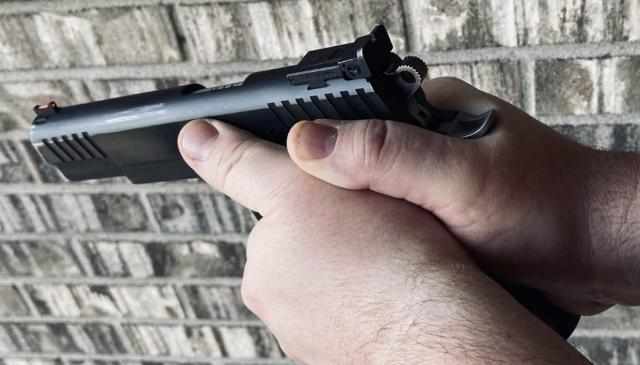handgun: (24, 13, 586, 351)
